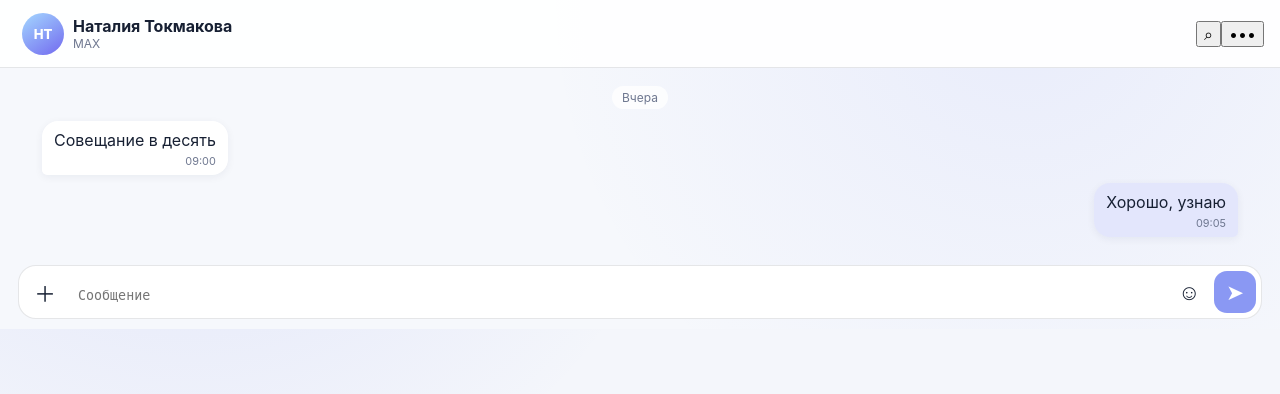
message search › stays open while the field itself is used
The width and height of the screenshot is (1280, 394).
Click the button named "Поиск сообщений" at (1208, 34), box [1196, 20, 1221, 46]
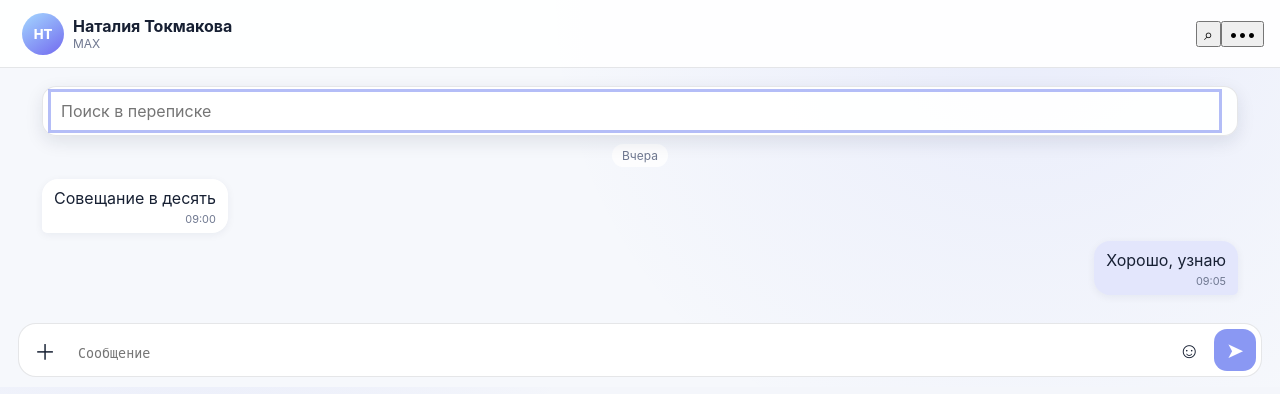
Type "узнаю" into the search field at (635, 111), box [53, 94, 1217, 128]
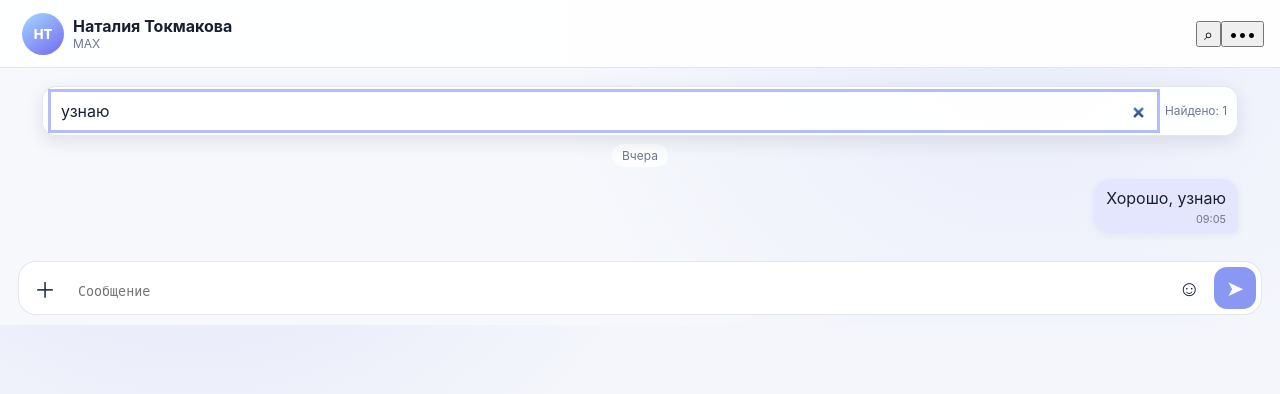
Check: the text "Найдено: 1" is shown, box [1165, 104, 1227, 118]
